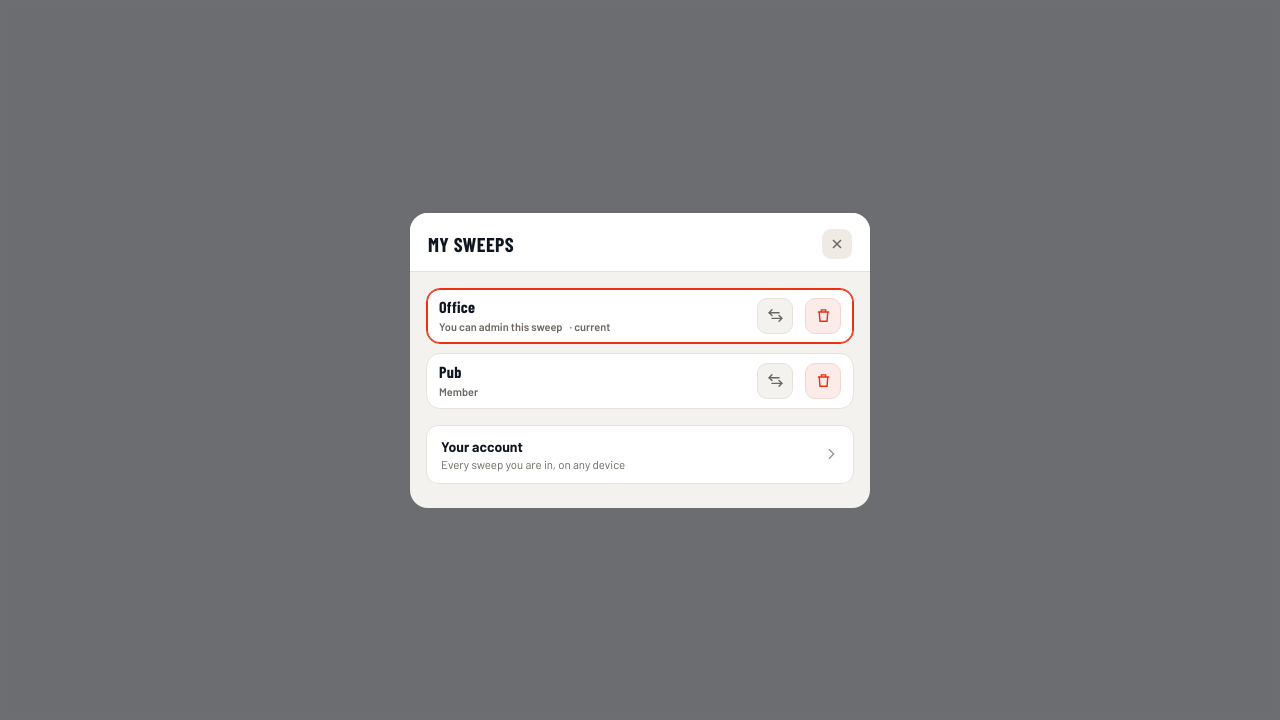
Test: SweepsSheet: a network failure blames the network, and keeps the token
What coordinates should you click on to do the following:
click the text "Pub"
I would click on:
 (450, 371)
Its box is [439,362,462,381].
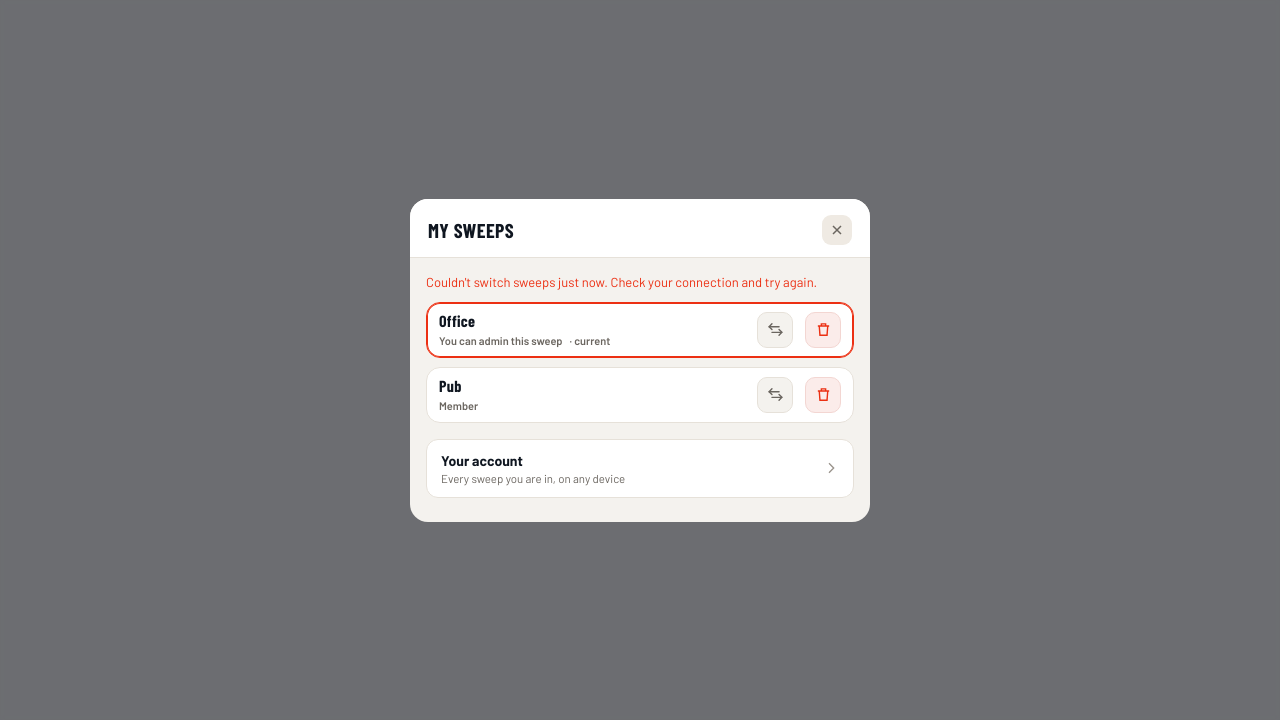
Expected: the message shows "Check your connection", [426,274,817,290]
